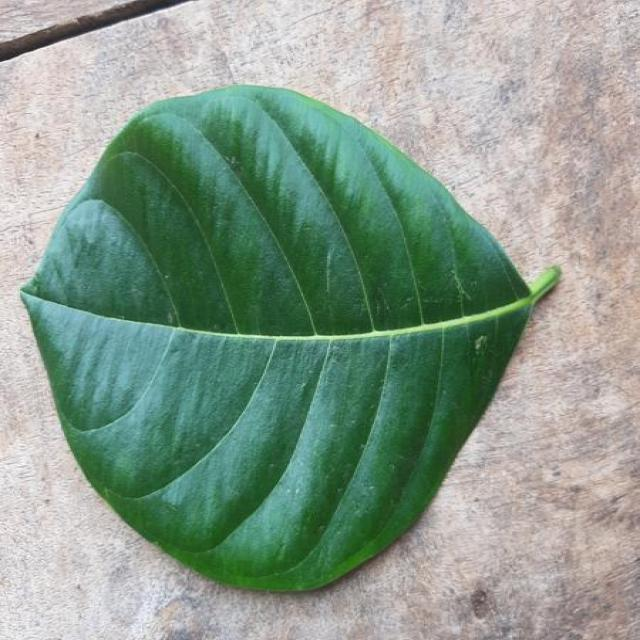Jackfruit: (22, 86, 560, 589)
